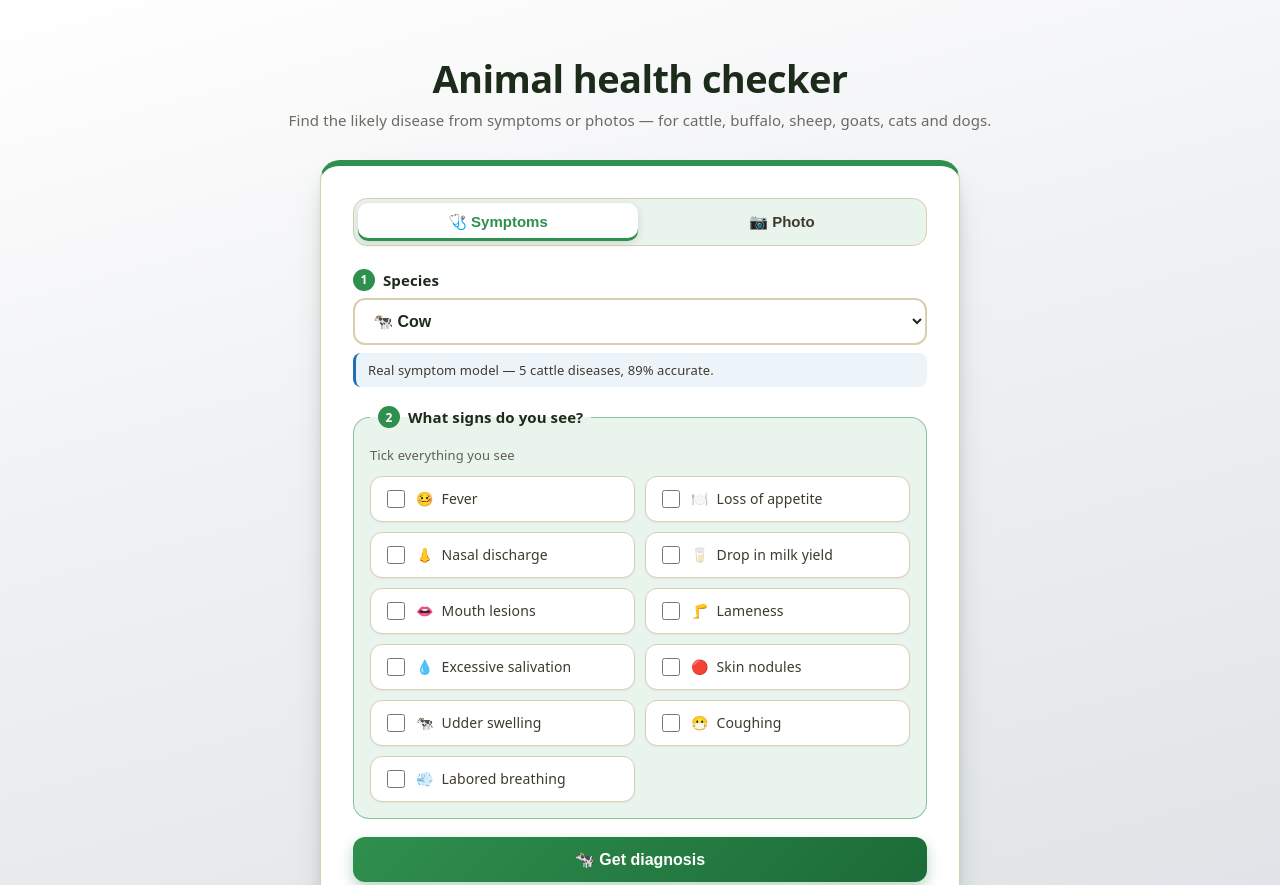
Test case: DiagnosisIntake › New diagnosis clears the result and the checked symptoms, and re-centres the form
Click the checkbox labelled "🤒 Fever". click: coordinates (396, 499)
box: 387,490 -> 405,508
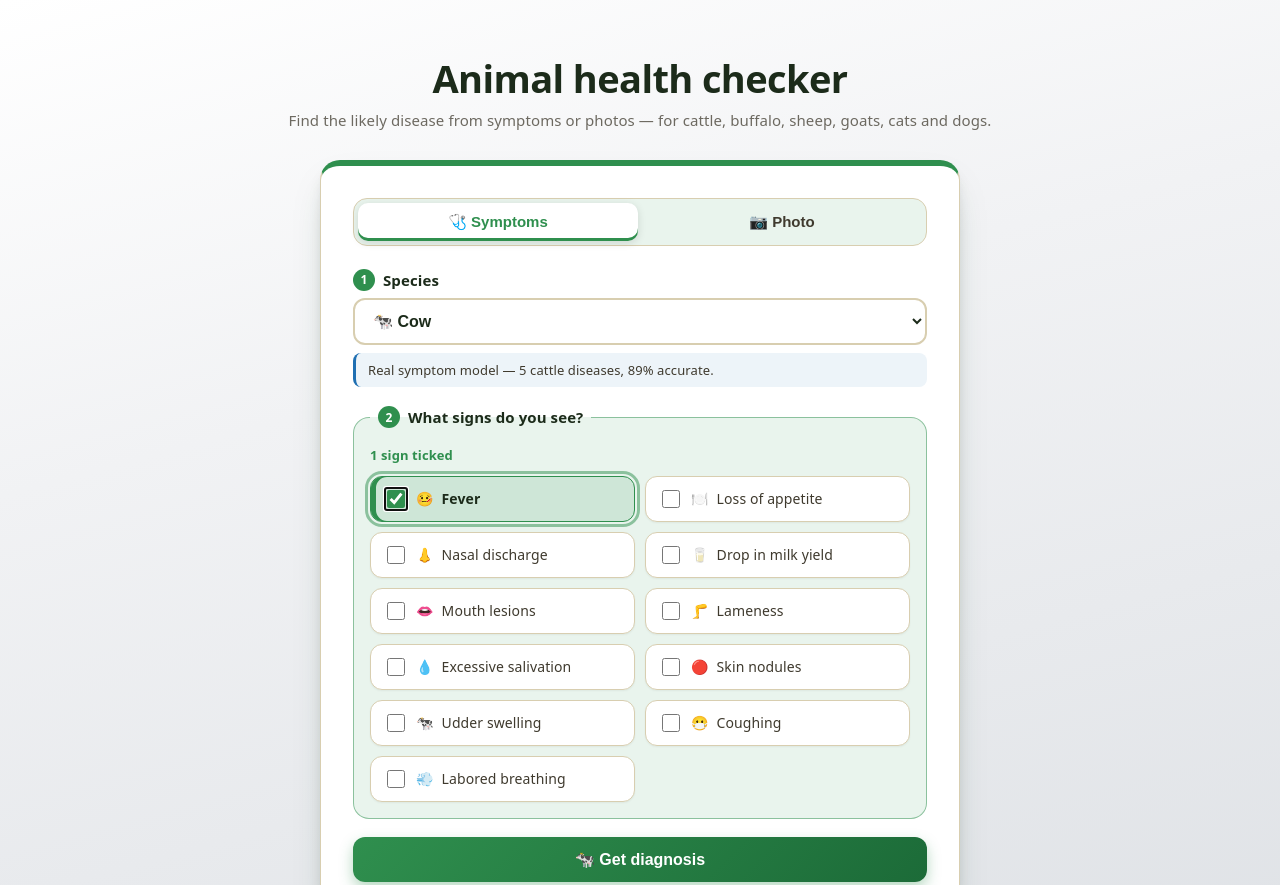
Click the button "🐄 Get diagnosis". click: coordinates (640, 860)
box: 353,837 -> 927,882
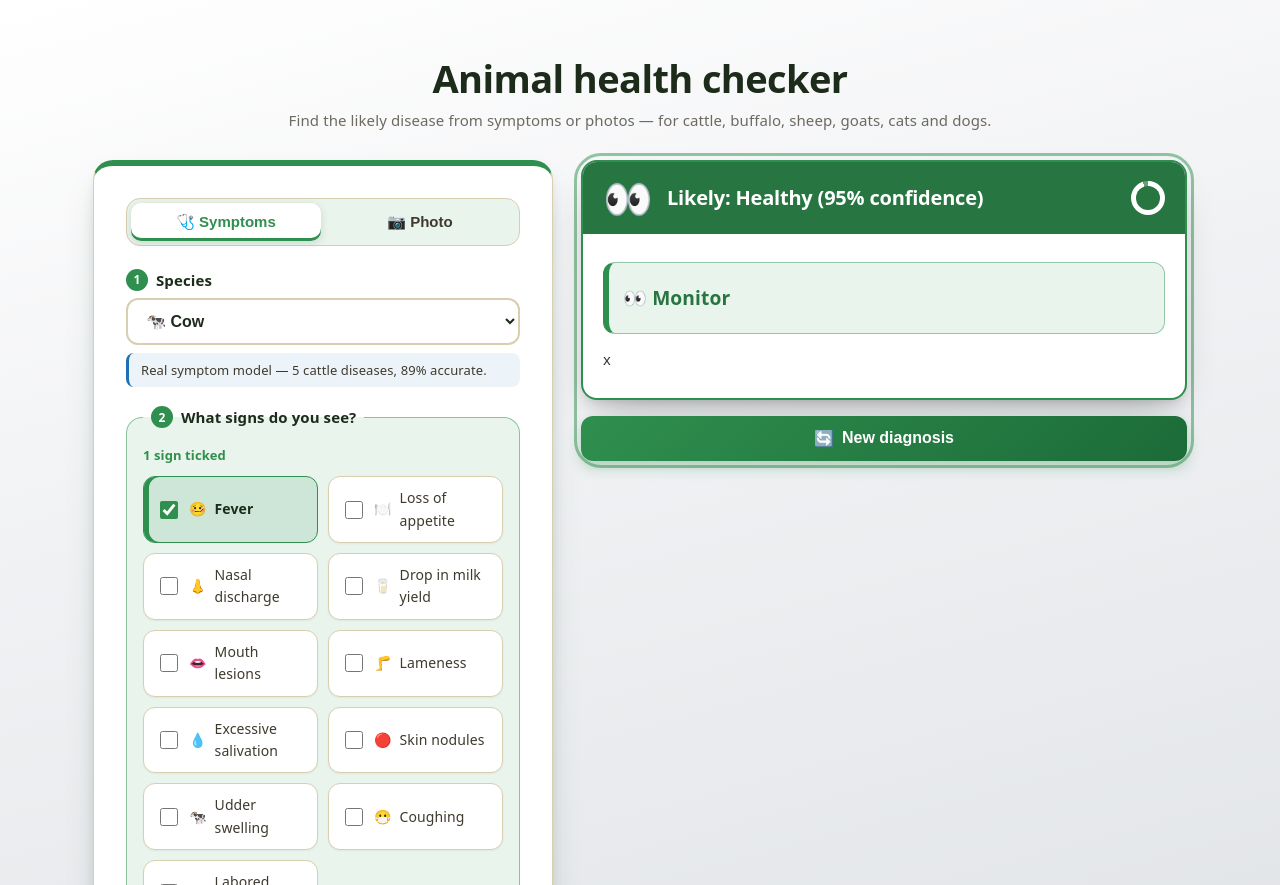
Expected: the checkbox labelled "🤒 Fever" is checked, 160,501 -> 178,519
Expected: the heading "Likely: Healthy (95% confidence)" is shown, 667,185 -> 983,211
Click the button "🔄 New diagnosis". click: coordinates (884, 438)
box: 581,416 -> 1187,461
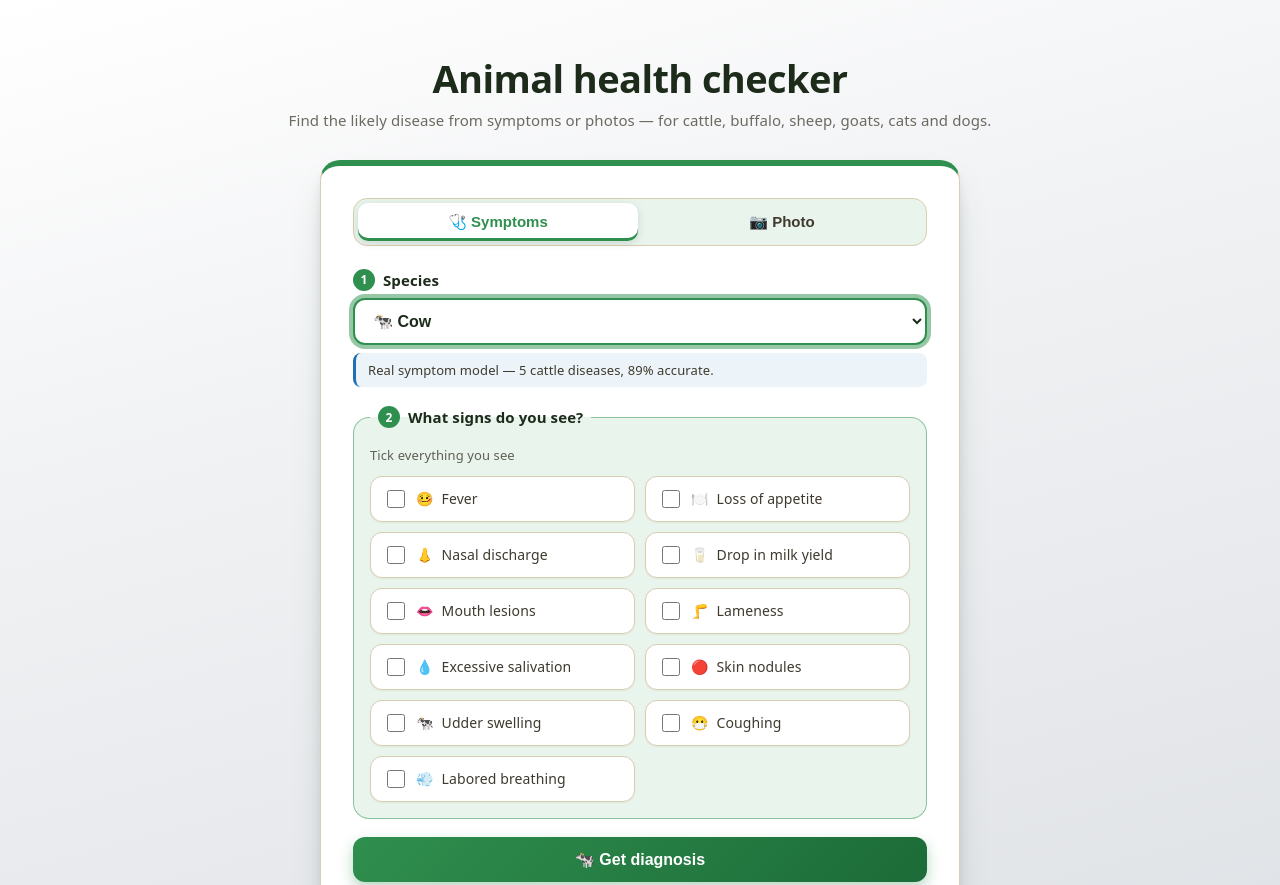
Expected: the dropdown labelled "1 Species" shows "🐄 Cow", 353,298 -> 927,345
Expected: the checkbox labelled "🤒 Fever" is not checked, 387,490 -> 405,508
Expected: the heading "Likely: Healthy" is gone
